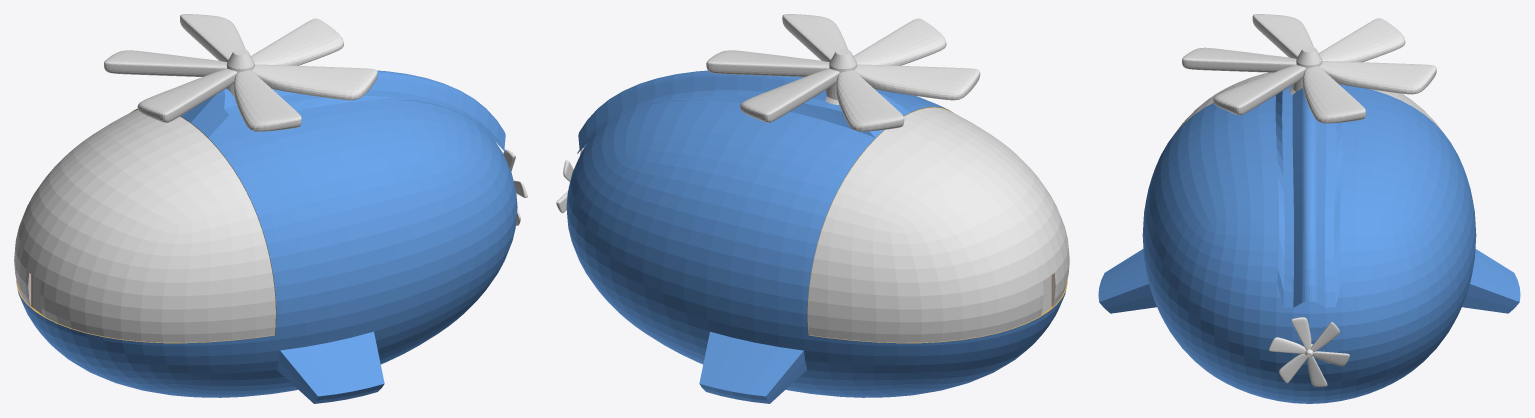
The picture shows the model from 3 angles, left to right: view 1: azimuth 30°, elevation 25°; view 2: azimuth 150°, elevation 25°; view 3: azimuth 270°, elevation 25°; orthographic projection. The views are drawn at different scales.
Parts seen in each view (by area): view 1: 立方体.004, 立方体.002, 立方体.020, 立方体.021, 立方体.019, 立方体.017, 立方体.022, 立方体.018, 柱体.001; view 2: 立方体.004, 立方体.002, 立方体.022, 立方体.017, 立方体.021, 立方体.019, 立方体.018, 立方体.020, 柱体.001; view 3: 立方体.004, 立方体.018, 立方体.019, 立方体.017, 立方体.021, 立方体.020, 立方体.022, 立方体.002, 柱体.001, 立方体.015, 立方体.014, 立方体.016 (+3 smaller).
Part boxes in pixels (x1,y1,x2,y2): 立方体.004: [16, 70, 517, 403]; 立方体.002: [14, 109, 275, 342]; 立方体.020: [252, 64, 377, 100]; 立方体.021: [234, 70, 301, 131]; 立方体.019: [251, 18, 343, 65]; 立方体.017: [104, 50, 227, 76]; 立方体.022: [137, 68, 237, 122]; 立方体.018: [180, 14, 245, 61]; 柱体.001: [226, 49, 254, 96]; 立方体.004: [566, 70, 1067, 403]; 立方体.002: [808, 107, 1069, 342]; 立方体.022: [854, 64, 980, 100]; 立方体.017: [836, 70, 904, 131]; 立方体.021: [853, 18, 946, 65]; 立方体.019: [706, 50, 829, 76]; 立方体.018: [740, 68, 839, 122]; 立方体.020: [782, 14, 847, 61]; 柱体.001: [825, 49, 857, 104]; 立方体.004: [1098, 83, 1520, 403]; 立方体.018: [1319, 61, 1436, 94]; 立方体.019: [1303, 66, 1365, 123]; 立方体.017: [1319, 18, 1405, 62]; 立方体.021: [1182, 47, 1296, 72]; 立方体.020: [1213, 65, 1305, 115]; 立方体.022: [1252, 14, 1313, 58]; 立方体.002: [1176, 72, 1442, 131]; 柱体.001: [1289, 46, 1322, 94]; 立方体.015: [1269, 337, 1306, 354]; 立方体.014: [1279, 354, 1307, 383]; 立方体.016: [1291, 317, 1311, 350].
Bounding box in the file's own units: 4605 × 2985 × 3796.
